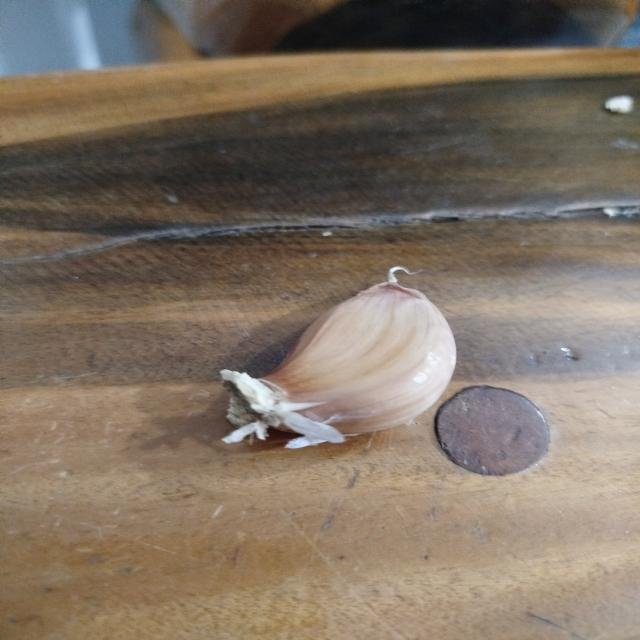garlic: (218, 266, 458, 450)
